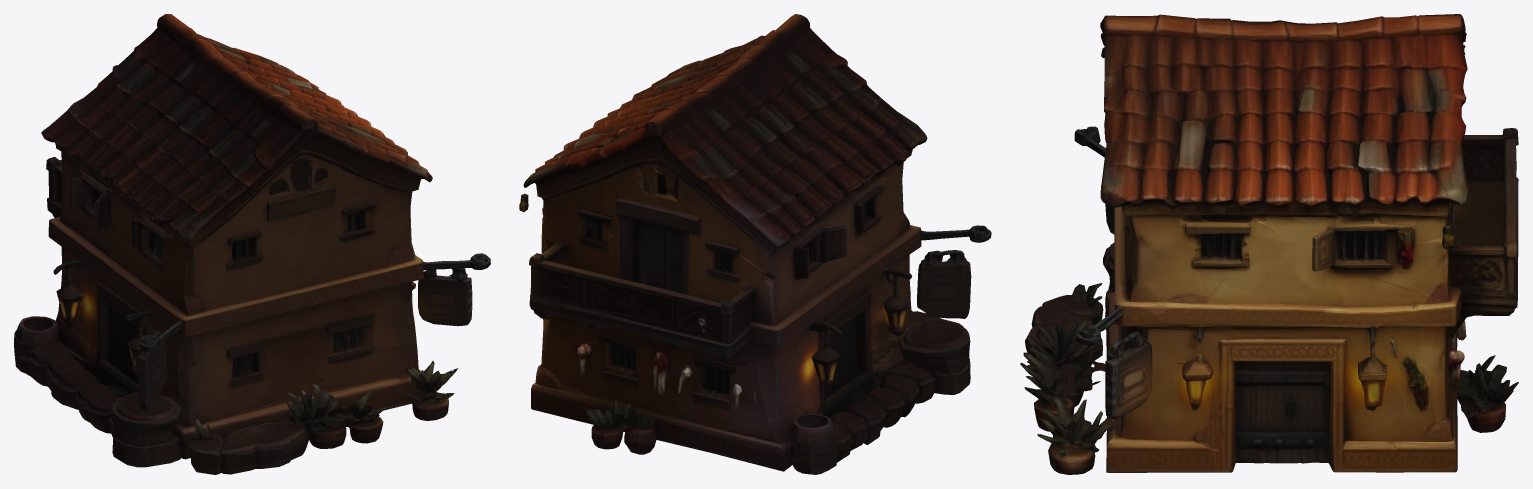
File: inn.glb
3 renders of one model, left to right at view 1: azimuth 30°, elevation 25°; view 2: azimuth 150°, elevation 25°; view 3: azimuth 270°, elevation 25°, orthographic. The views are drawn at different scales.
Visible parts, largest first — view 1: world; view 2: world; view 3: world.
Part boxes in pixels (x1,y1,x2,y2): world: (14, 14, 490, 474); world: (519, 14, 991, 474); world: (1020, 14, 1518, 474).
Size of the model in its own units: 0.9935 by 0.8537 by 0.9882.
Materials: 1 (1 with a texture image).
